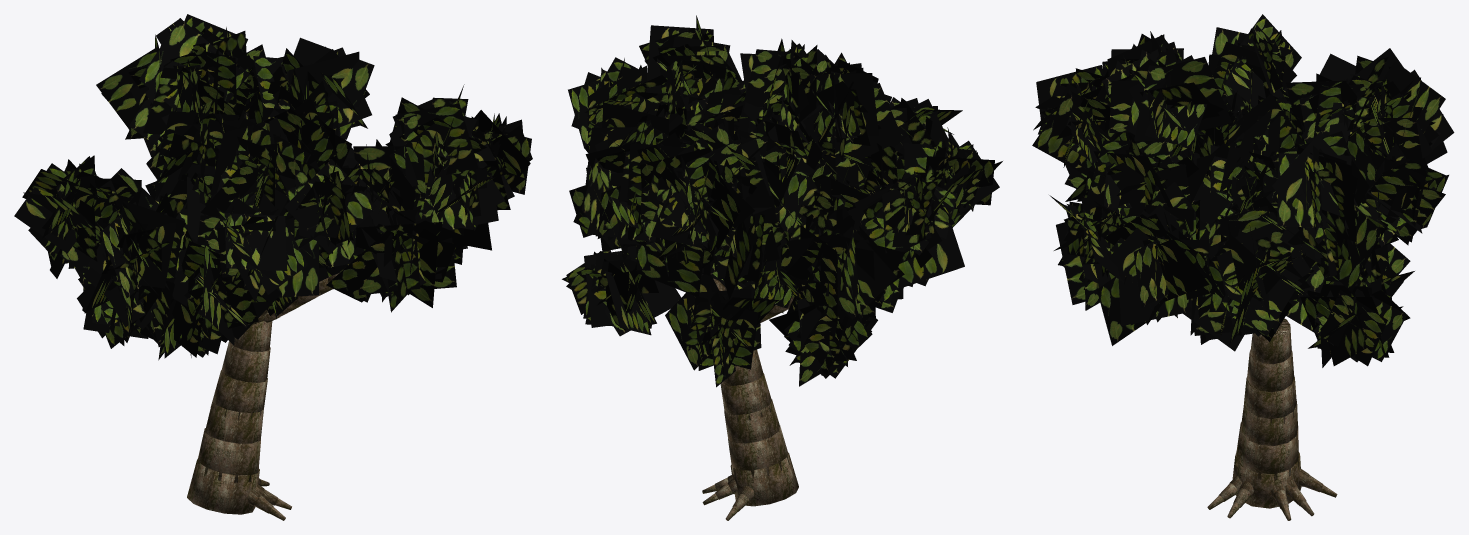
File: giant_3.glb
The picture shows the model from 3 angles, left to right: view 1: azimuth 30°, elevation 25°; view 2: azimuth 150°, elevation 25°; view 3: azimuth 270°, elevation 25°; orthographic projection. The views are drawn at different scales.
Parts seen in each view (by area): view 1: giant; view 2: giant; view 3: giant.
Part boxes in pixels (x1=…): giant: x1=14, y1=14, x2=532, y2=520; giant: x1=562, y1=15, x2=1002, y2=520; giant: x1=1032, y1=14, x2=1454, y2=520.
Size of the model in its own units: 19 by 17.88 by 14.95.
Materials: 2 (2 with a texture image).
